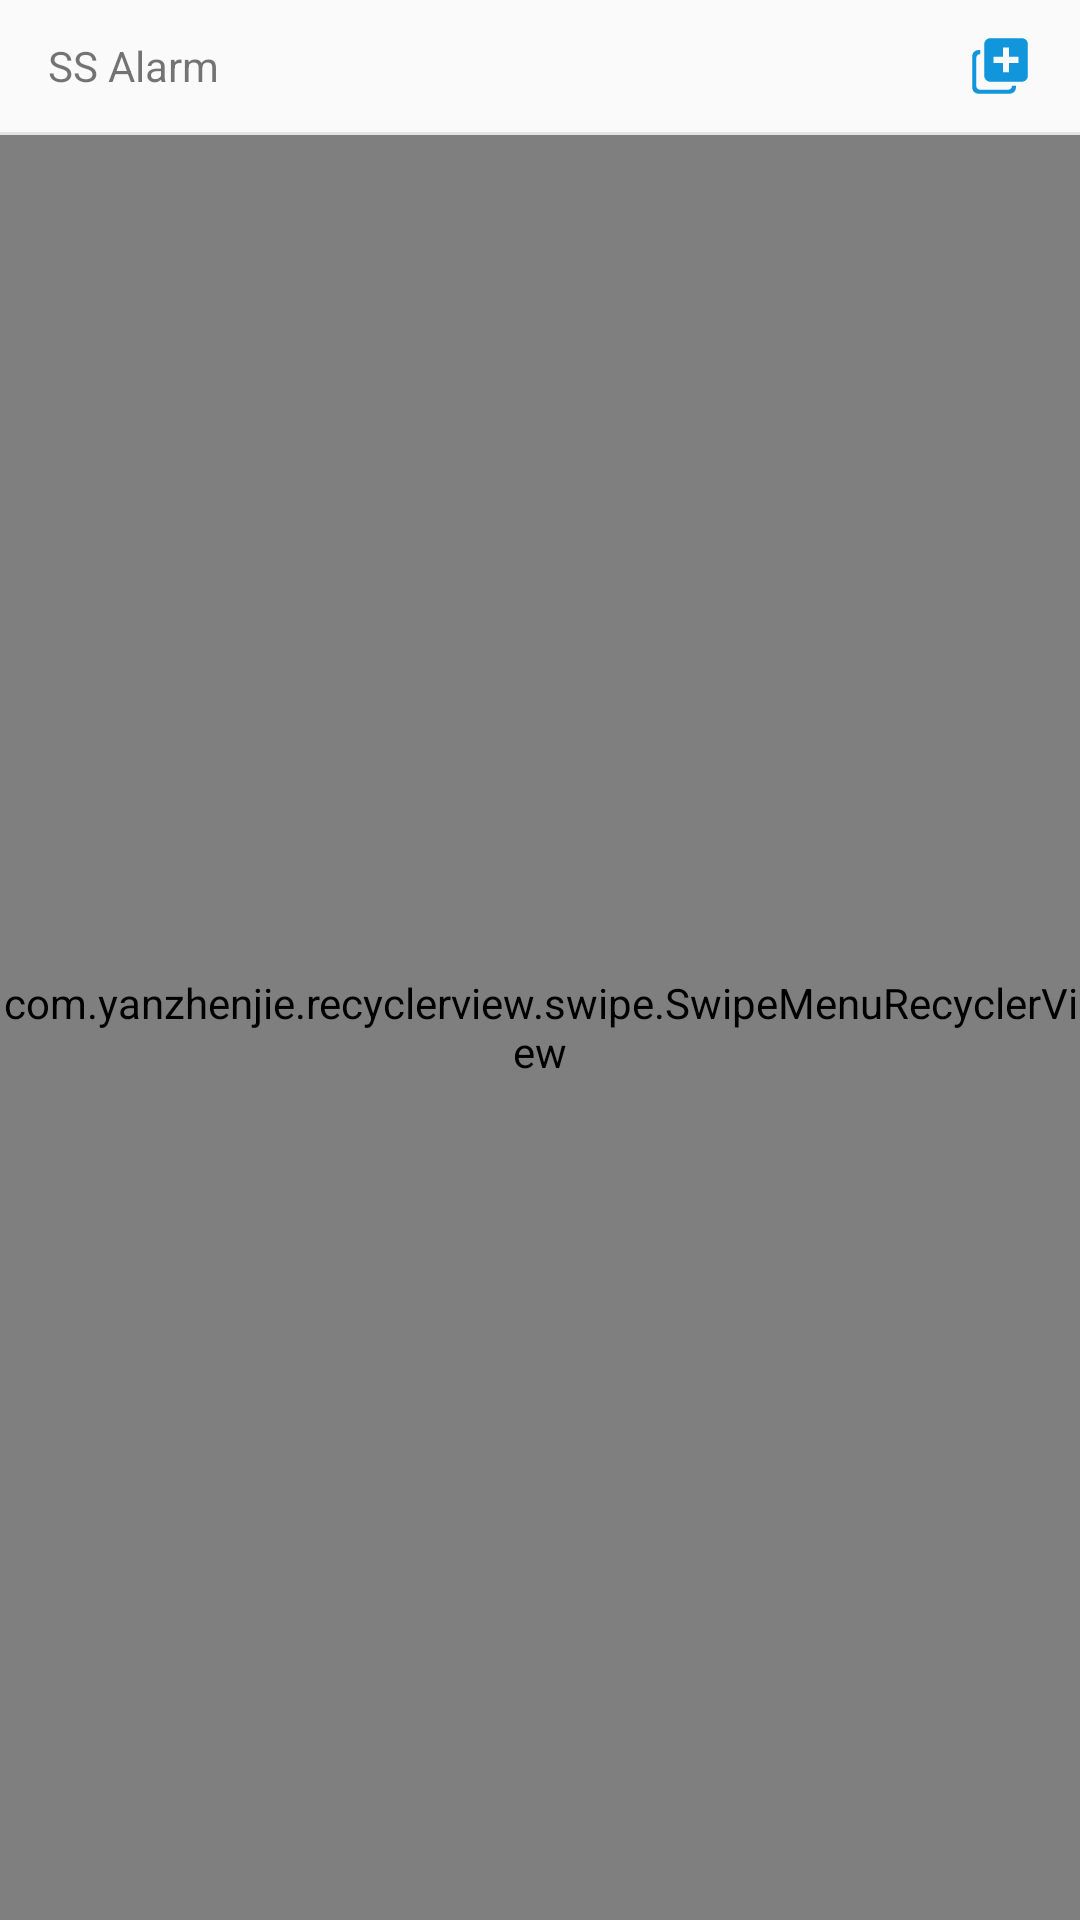

Named icons in this screenshot (1080×1920) and their bounding boxes, {"left": x1, "top": y1, "right": x2, "bottom": y2}:
add: {"left": 972, "top": 38, "right": 1028, "bottom": 94}
